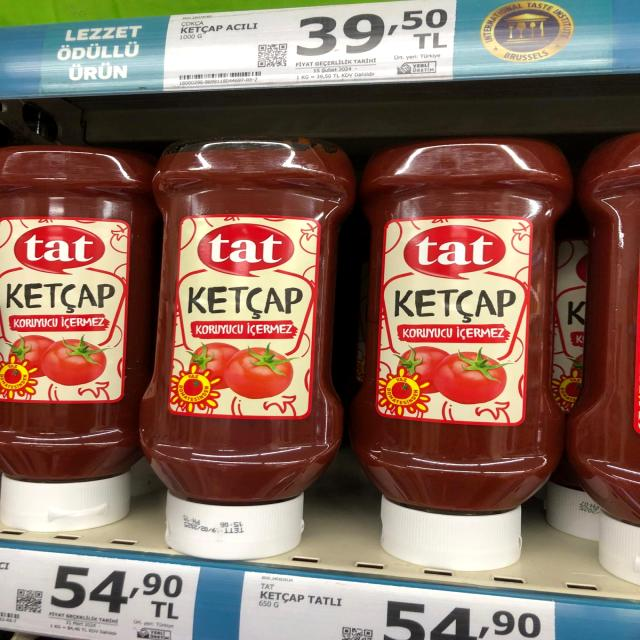ketchup: (337, 131, 591, 572), (131, 129, 361, 559), (0, 153, 171, 529)
